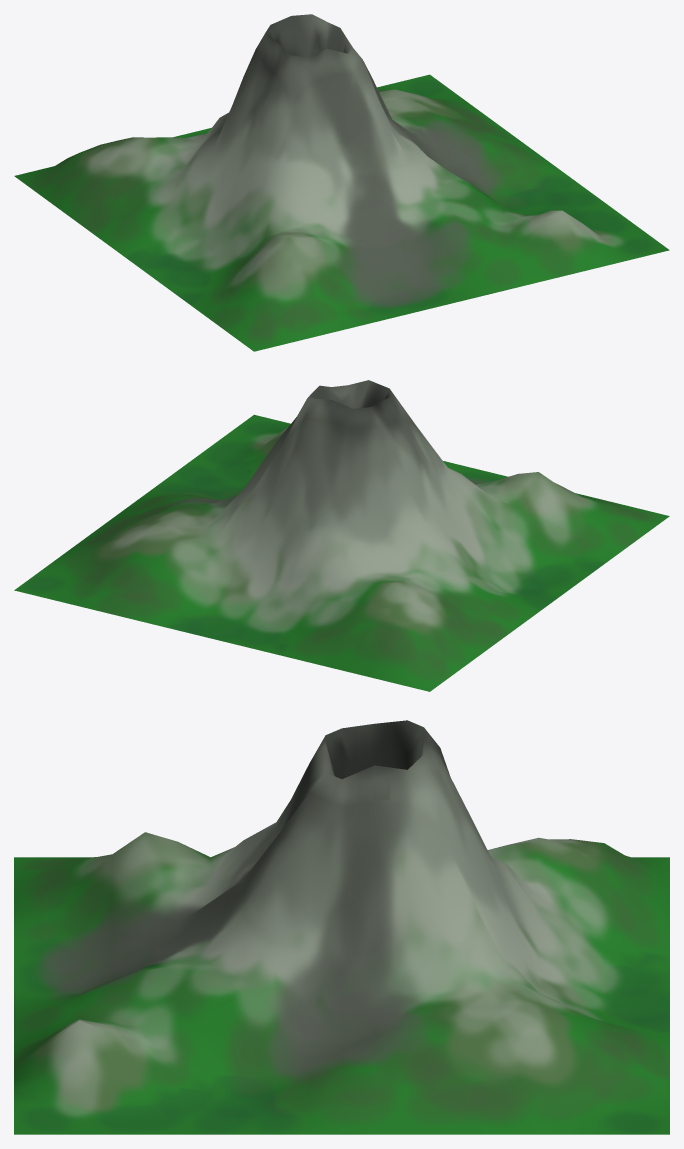
The model's file is volcano.obj.
3 views of the same model, one above another, from view 1: azimuth 30°, elevation 25°; view 2: azimuth 150°, elevation 25°; view 3: azimuth 270°, elevation 25° (orthographic). The views are drawn at different scales.
Parts seen in each view (by area): view 1: Grid; view 2: Grid; view 3: Grid.
Part boxes in pixels (x1,y1,x2,y2): Grid: [14, 14, 669, 351]; Grid: [14, 380, 669, 691]; Grid: [14, 720, 669, 1134].
Size of the model in its own units: 128 by 53.04 by 128.
1 material, 1 textured.
